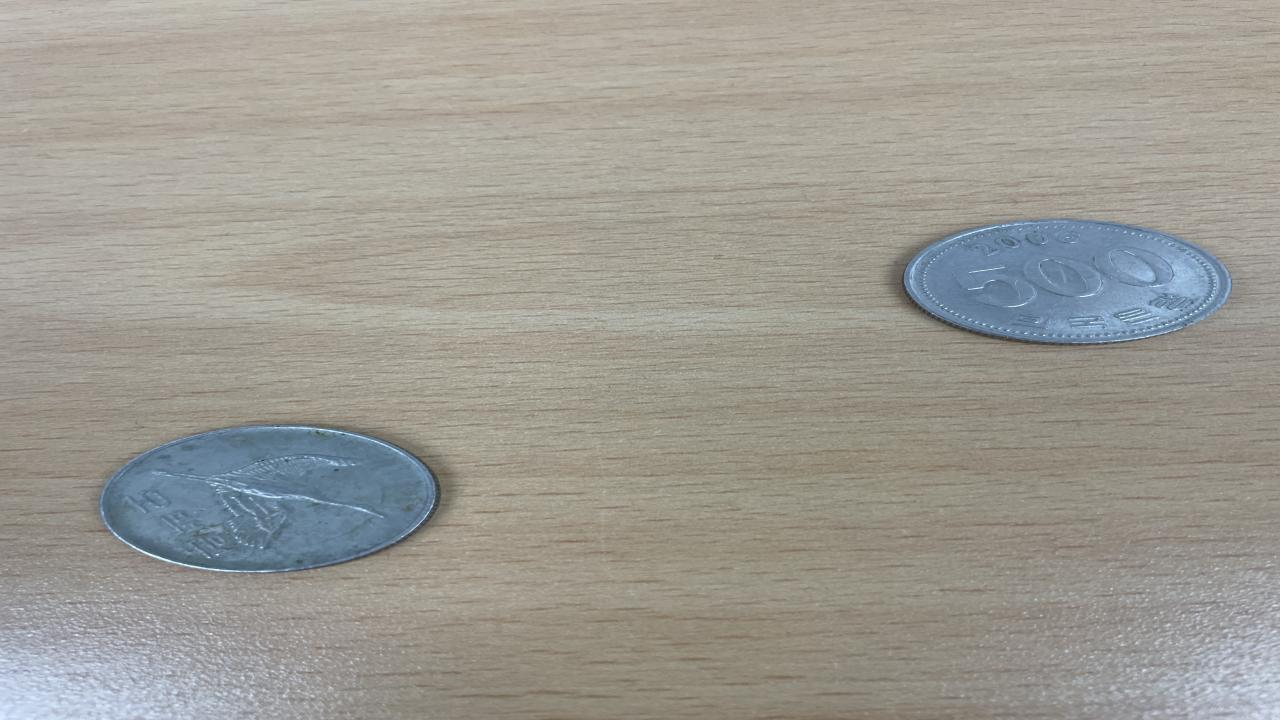coin: (94, 421, 442, 575), (899, 219, 1228, 346)
